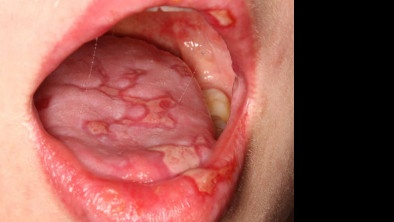SJS-TEN: (3, 0, 295, 222)
